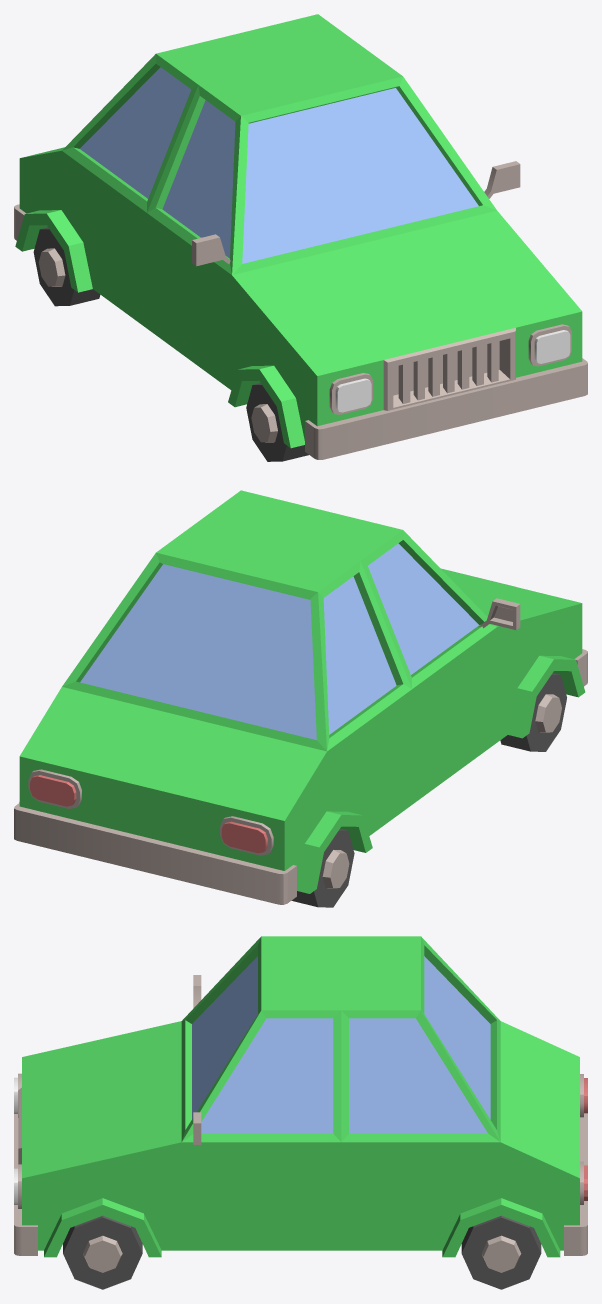
Rendered from Sedan.fbx.
3 renders of one model, top to bottom at view 1: azimuth 30°, elevation 25°; view 2: azimuth 150°, elevation 25°; view 3: azimuth 270°, elevation 25°, orthographic. The views are drawn at different scales.
Parts seen in each view (by area): view 1: mesh_sedan; view 2: mesh_sedan; view 3: mesh_sedan.
Part boxes in pixels (box(x1,y1,x2,y2)): mesh_sedan: box(14, 14, 587, 461); mesh_sedan: box(14, 490, 587, 907); mesh_sedan: box(14, 936, 587, 1289).
Size of the model in its own units: 0.99 by 0.7875 by 1.62.
